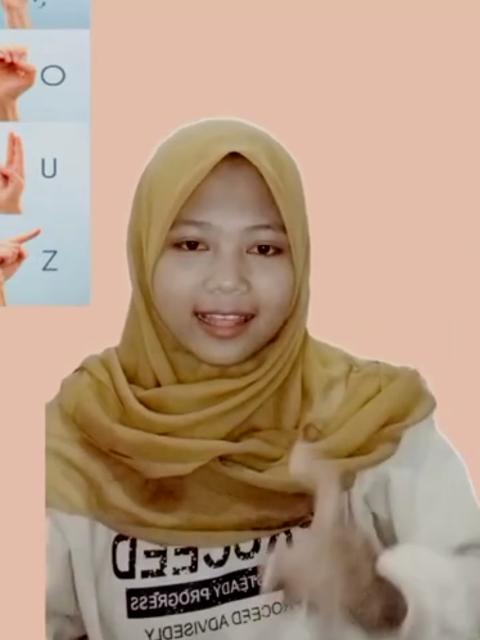X: (259, 436, 387, 640)
